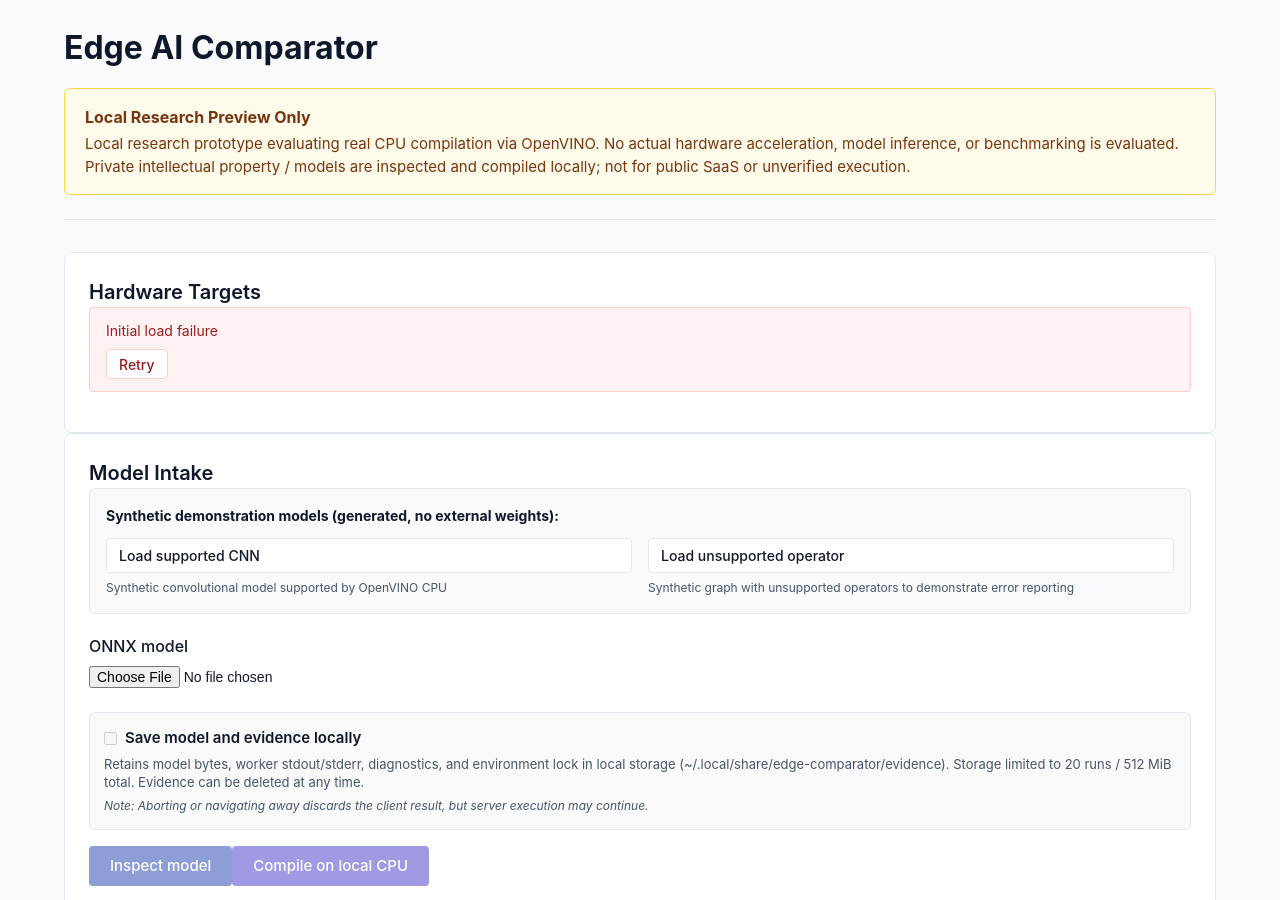
Scenario: App integration › handles target catalog retry failure
Expected: the text "Initial load failure" is shown, [106,322,218,339]
Click the button "Retry".
click(137, 364)  # box [106,349,168,379]
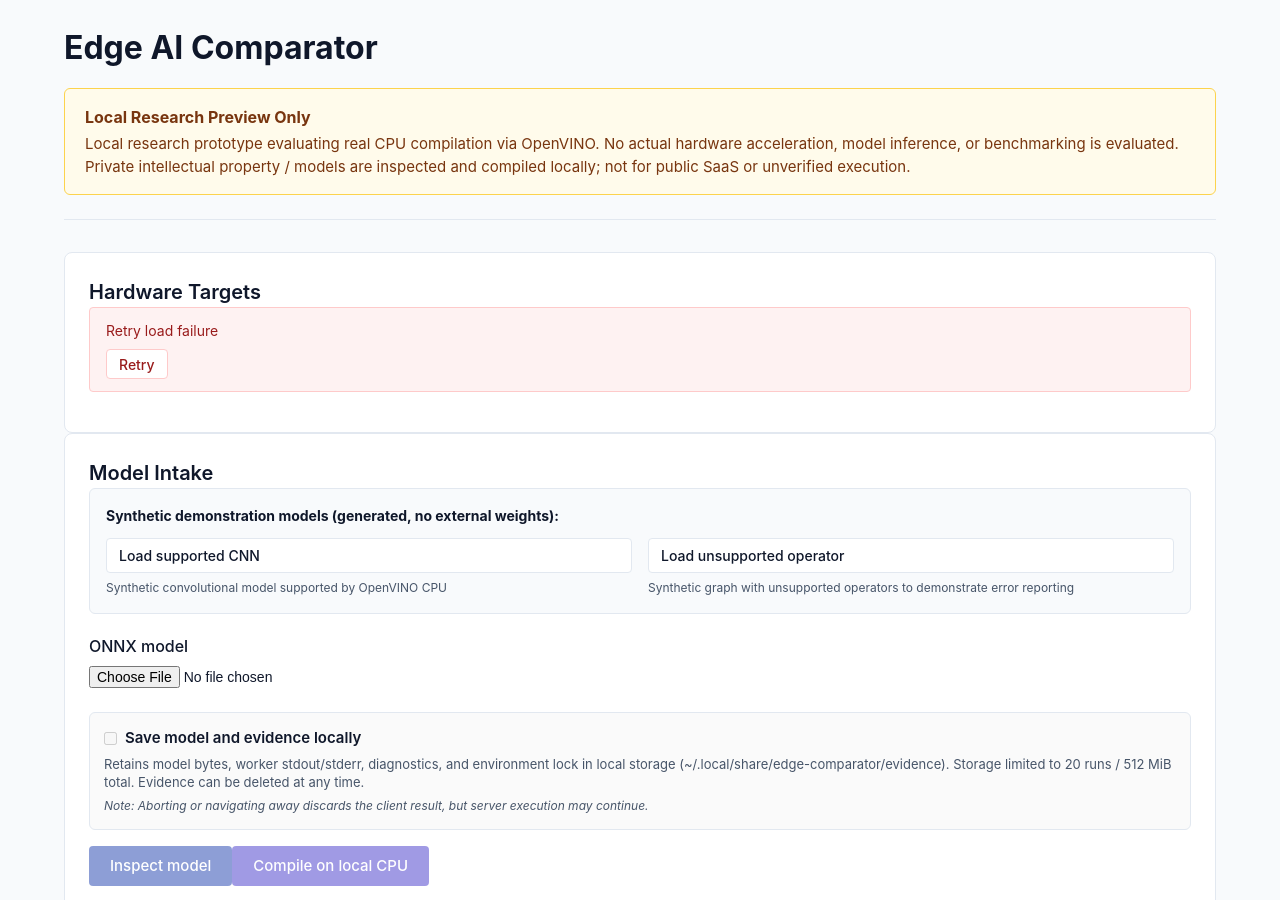
Expected: the text "Retry load failure" is shown, [106,322,218,339]
